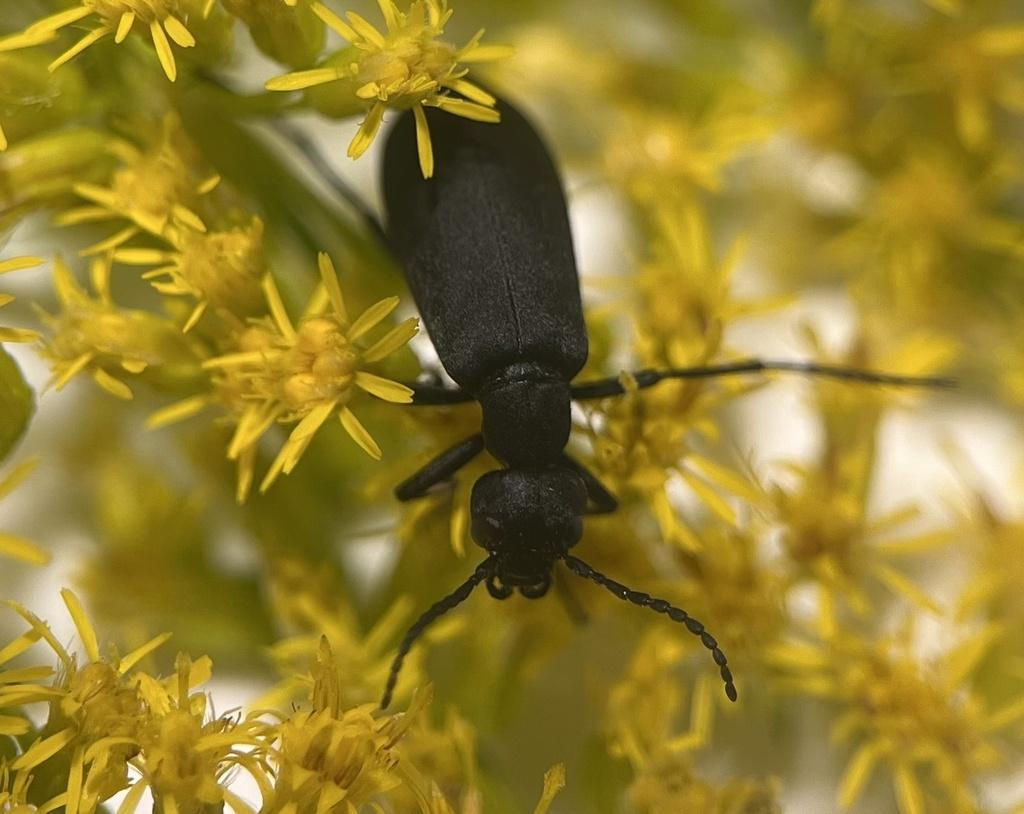blister_beetle: (263, 1, 968, 814)
